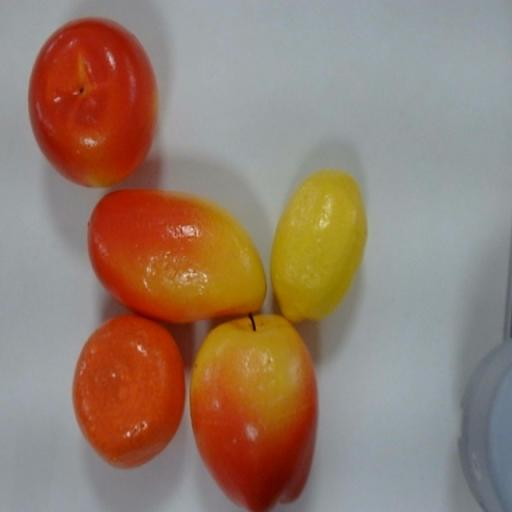Ripe: (187, 316, 321, 511), (87, 185, 268, 323), (27, 13, 161, 186), (71, 312, 188, 470), (268, 165, 370, 328)
